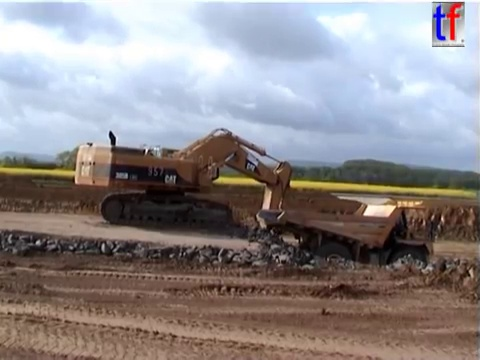excavator: (71, 126, 294, 252)
truck: (274, 198, 437, 282)
